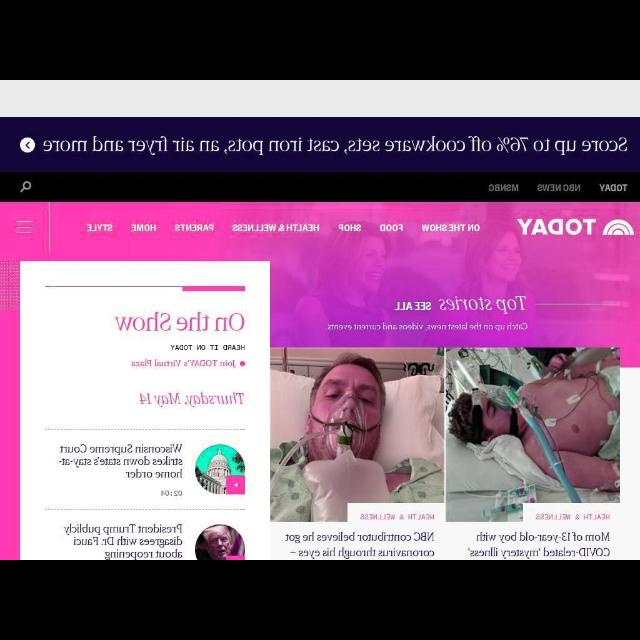button: (18, 136, 36, 154)
icon: (14, 220, 34, 236), (18, 180, 32, 194), (26, 142, 30, 148)
image: (270, 348, 620, 522), (196, 444, 244, 496), (195, 524, 248, 560), (602, 216, 634, 236)
multitab: (86, 224, 480, 233), (488, 184, 628, 192)
text: (42, 136, 628, 156), (57, 443, 183, 479), (63, 524, 183, 560), (284, 532, 434, 558), (467, 532, 611, 558), (114, 313, 244, 332), (324, 322, 528, 331), (140, 392, 244, 408), (438, 296, 528, 314), (516, 218, 598, 236), (128, 358, 245, 368), (230, 224, 320, 233), (170, 344, 244, 352), (420, 224, 480, 232), (392, 301, 432, 311), (488, 182, 520, 194), (536, 184, 582, 192), (173, 225, 214, 233), (598, 184, 630, 192), (130, 225, 158, 233), (86, 224, 114, 232), (378, 224, 404, 232), (338, 224, 362, 232), (160, 489, 184, 497)
